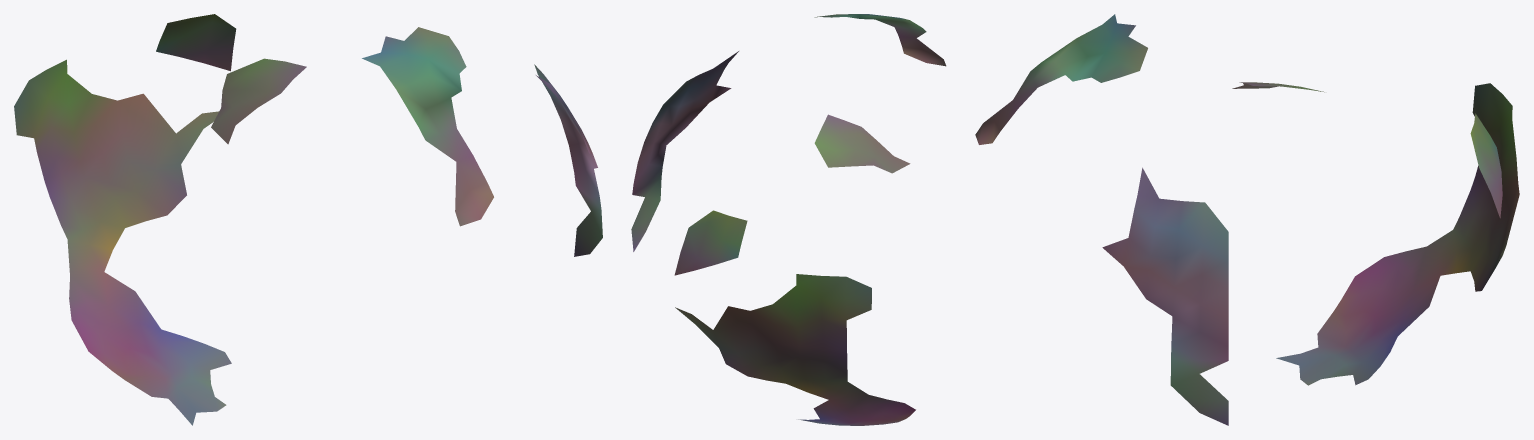
Rendered from space-nebulae-nebula_v15.fbx.
3 renders of one model, left to right at view 1: azimuth 30°, elevation 25°; view 2: azimuth 150°, elevation 25°; view 3: azimuth 270°, elevation 25°, orthographic. The views are drawn at different scales.
Parts seen in each view (by area): view 1: Nebula_v15; view 2: Nebula_v15; view 3: Nebula_v15.
Boxes of the visible parts, <box> form: Nebula_v15: <box>14,14,602,425</box>; Nebula_v15: <box>631,14,946,425</box>; Nebula_v15: <box>975,14,1519,425</box>.
Size of the model in its own units: 0.4235 by 0.3956 by 0.5.
